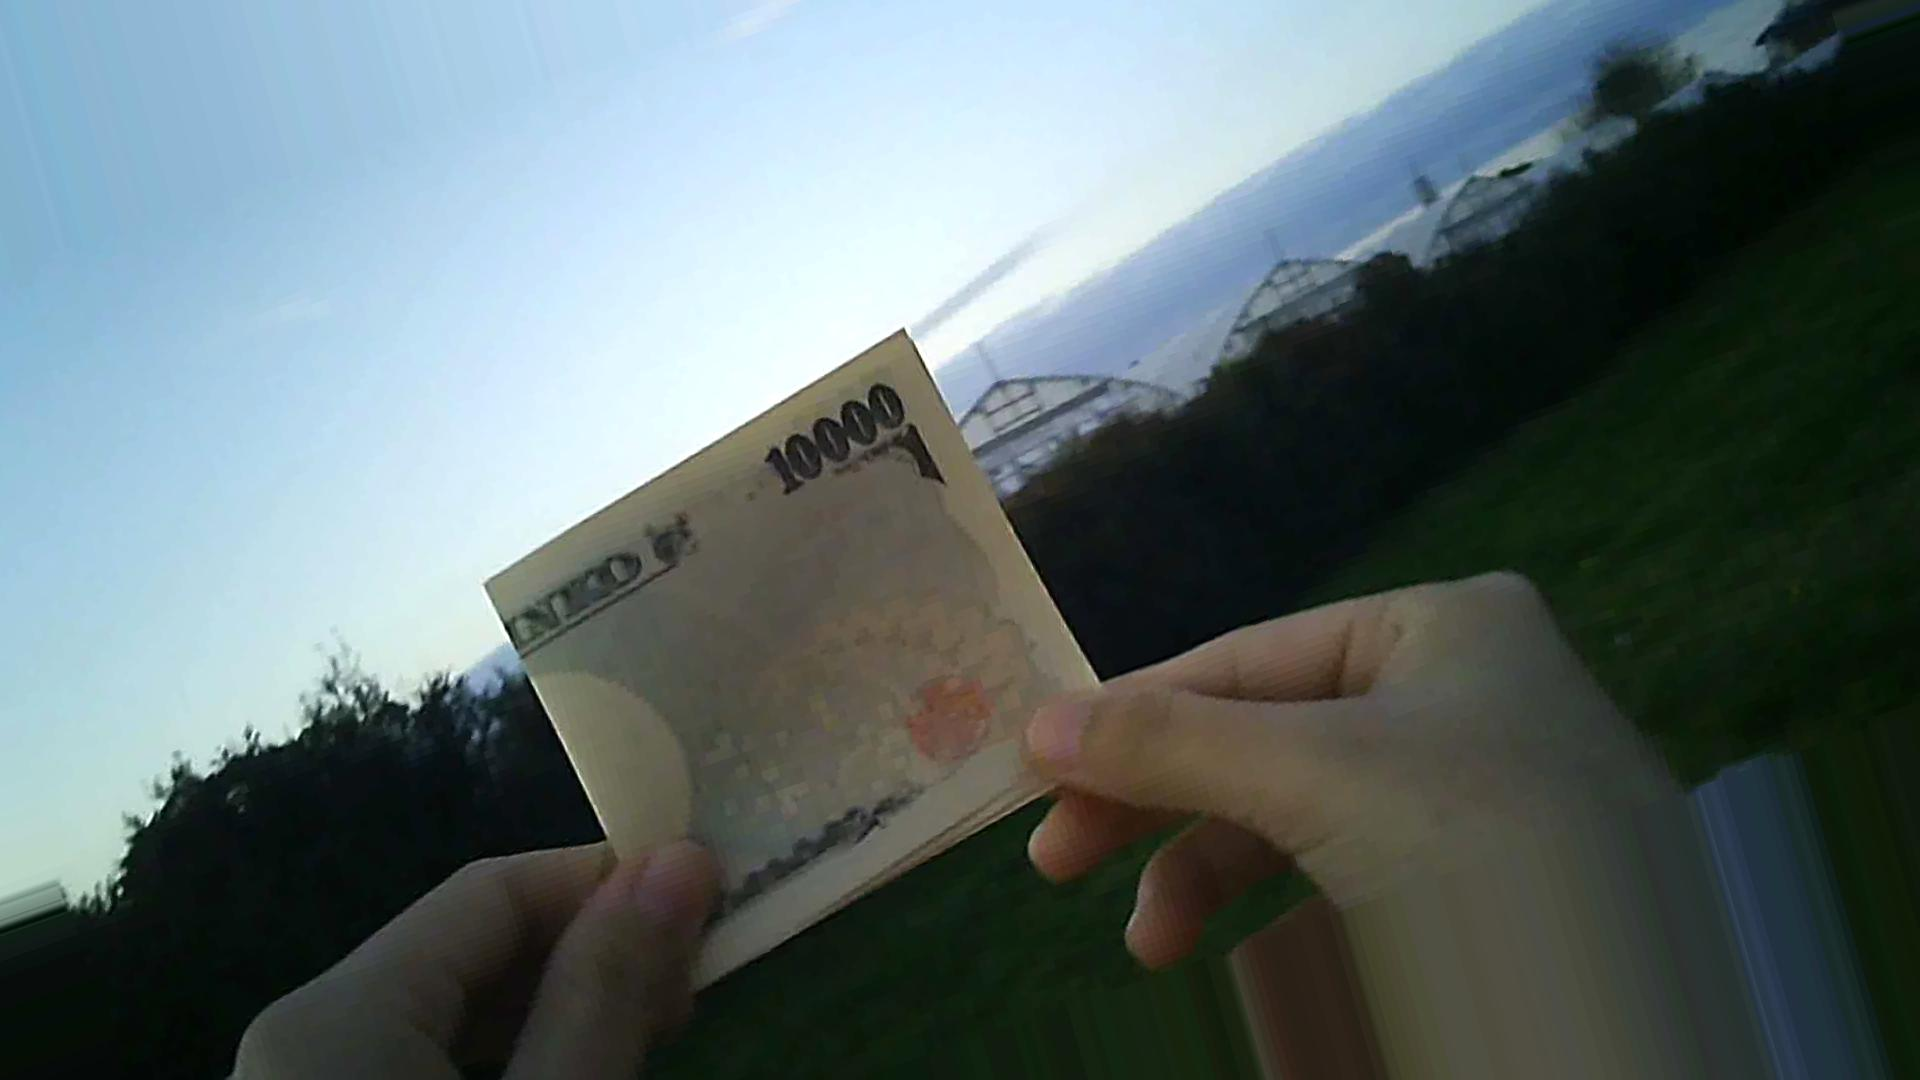10,000 Yen: (440, 334, 1142, 984)
